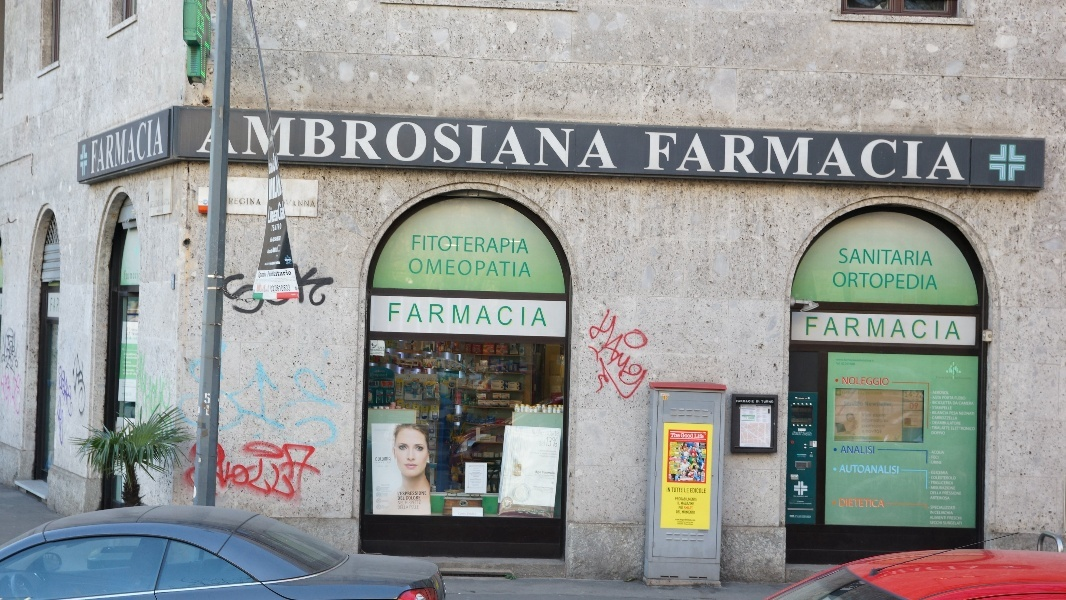text: (561, 294, 576, 417), (577, 294, 592, 417), (593, 294, 608, 417), (609, 294, 624, 417), (625, 294, 640, 417), (641, 294, 656, 417), (209, 436, 224, 509), (225, 436, 240, 509), (241, 436, 256, 509), (257, 436, 272, 509), (273, 436, 288, 509), (289, 436, 304, 509), (305, 436, 320, 509), (97, 118, 112, 175), (113, 118, 128, 175), (129, 118, 144, 175), (145, 118, 160, 175), (225, 116, 240, 170), (241, 116, 256, 170), (257, 116, 272, 170), (273, 116, 288, 170), (289, 116, 304, 170), (305, 116, 320, 170), (321, 116, 336, 170), (337, 116, 352, 170), (353, 116, 368, 170), (369, 116, 384, 170), (385, 116, 400, 170), (401, 116, 416, 170), (417, 116, 432, 170), (433, 116, 448, 170), (449, 116, 464, 170), (465, 116, 480, 170), (481, 116, 496, 170), (497, 116, 512, 170), (513, 116, 528, 170), (529, 116, 544, 170), (545, 116, 560, 170), (561, 116, 576, 170), (577, 116, 592, 170), (593, 116, 608, 170), (257, 254, 272, 308), (273, 254, 288, 308), (289, 254, 304, 308), (305, 254, 320, 308), (321, 254, 336, 308), (241, 270, 256, 321), (257, 270, 272, 321), (657, 133, 672, 183), (673, 133, 688, 183), (689, 133, 704, 183), (705, 133, 720, 183), (721, 133, 736, 183), (737, 133, 752, 183), (753, 133, 768, 183), (769, 133, 784, 183), (785, 133, 800, 183), (801, 133, 816, 183), (817, 133, 832, 183), (833, 133, 848, 183), (849, 133, 864, 183), (865, 133, 880, 183), (881, 133, 896, 183), (897, 133, 912, 183), (913, 133, 928, 183), (929, 133, 944, 183), (945, 133, 960, 183), (198, 436, 208, 509), (321, 436, 331, 509), (609, 116, 619, 170), (646, 133, 656, 183), (545, 429, 559, 459), (401, 303, 416, 328), (417, 303, 432, 328), (433, 303, 448, 328), (449, 303, 464, 328), (465, 303, 480, 328), (481, 303, 496, 328), (497, 303, 512, 328), (513, 303, 528, 328), (529, 303, 544, 328), (532, 429, 544, 459), (817, 317, 832, 340), (833, 317, 848, 340), (849, 317, 864, 340), (865, 317, 880, 340), (881, 317, 896, 340), (897, 317, 912, 340), (913, 317, 928, 340), (929, 317, 944, 340), (945, 317, 960, 340), (218, 116, 224, 170), (961, 133, 967, 183), (91, 118, 96, 175), (417, 259, 432, 278), (433, 259, 448, 278), (449, 259, 464, 278), (465, 259, 480, 278), (481, 259, 496, 278), (497, 259, 512, 278), (513, 259, 528, 278), (849, 272, 864, 291), (865, 272, 880, 291), (881, 272, 896, 291), (897, 272, 912, 291), (913, 272, 928, 291), (417, 236, 432, 254), (433, 236, 448, 254), (449, 236, 464, 254), (465, 236, 480, 254), (481, 236, 496, 254), (497, 236, 512, 254), (513, 236, 528, 254), (251, 254, 256, 308), (849, 248, 864, 266), (865, 248, 880, 266), (881, 248, 896, 266), (897, 248, 912, 266), (913, 248, 928, 266), (834, 272, 848, 291), (390, 303, 400, 328), (534, 470, 544, 495), (545, 470, 555, 495), (807, 317, 816, 340), (161, 118, 164, 175), (929, 272, 938, 291), (849, 465, 864, 475), (865, 465, 880, 475), (881, 465, 896, 475), (849, 498, 864, 508), (865, 498, 880, 508), (840, 248, 848, 266), (849, 377, 864, 386), (865, 377, 880, 386), (409, 259, 416, 278), (657, 294, 658, 417), (241, 199, 256, 207), (273, 284, 288, 292), (849, 446, 864, 454), (289, 201, 304, 207), (229, 199, 240, 207), (913, 391, 924, 399), (849, 401, 863, 407), (881, 377, 890, 386), (865, 446, 875, 454), (840, 498, 848, 508), (675, 519, 688, 525), (945, 421, 960, 426), (945, 516, 960, 521), (401, 491, 416, 496), (929, 248, 933, 266), (801, 431, 813, 437), (691, 488, 704, 493), (867, 429, 880, 434), (945, 416, 958, 421), (931, 506, 944, 511), (931, 516, 944, 521), (305, 201, 315, 207), (865, 419, 880, 423), (865, 425, 880, 429), (842, 465, 848, 475), (932, 411, 944, 416), (932, 416, 944, 421), (961, 426, 976, 430), (929, 521, 944, 525), (945, 521, 960, 525), (849, 359, 864, 363), (905, 391, 912, 399), (866, 402, 880, 406), (961, 402, 975, 406), (961, 412, 975, 416), (930, 511, 944, 515), (933, 421, 944, 426), (945, 506, 956, 511), (337, 254, 338, 308), (931, 471, 944, 475), (931, 476, 944, 480), (931, 481, 944, 485), (931, 491, 944, 495), (835, 362, 848, 366), (239, 270, 240, 321), (273, 270, 274, 321), (545, 303, 547, 328), (694, 434, 704, 439), (673, 488, 683, 493), (881, 498, 886, 508), (417, 491, 427, 496), (406, 500, 416, 505), (932, 406, 944, 410), (932, 426, 944, 430), (932, 431, 944, 435), (932, 461, 944, 465), (945, 476, 957, 480), (932, 487, 944, 491), (836, 359, 848, 363), (756, 400, 768, 404), (792, 431, 800, 437), (843, 377, 848, 386), (945, 492, 960, 495), (737, 400, 752, 403), (881, 402, 892, 406), (933, 401, 944, 405), (945, 487, 956, 491), (689, 519, 696, 525), (913, 403, 919, 410), (257, 199, 262, 207), (673, 433, 681, 438), (843, 446, 848, 454), (934, 396, 944, 400), (376, 457, 384, 462), (406, 496, 416, 500), (401, 505, 409, 510), (931, 497, 944, 500), (414, 236, 416, 254), (676, 498, 688, 501), (679, 506, 688, 510), (945, 396, 954, 400), (951, 426, 960, 430), (932, 456, 944, 459), (935, 511, 944, 515), (945, 511, 954, 515), (681, 433, 688, 438), (409, 505, 416, 510), (677, 511, 688, 514), (933, 451, 944, 454), (680, 477, 688, 481), (881, 419, 889, 423), (945, 401, 953, 405), (945, 481, 953, 485), (865, 359, 873, 363), (678, 502, 688, 505), (897, 465, 900, 475), (934, 391, 944, 394), (961, 396, 967, 401), (385, 457, 391, 462), (953, 401, 960, 405), (945, 406, 952, 410), (849, 362, 856, 366), (761, 400, 768, 404), (689, 433, 694, 438), (955, 396, 960, 401), (417, 500, 422, 505), (689, 498, 697, 501), (689, 502, 695, 506), (865, 414, 872, 417), (689, 477, 694, 481), (667, 488, 672, 492), (945, 411, 949, 416), (950, 412, 960, 414), (945, 426, 950, 430), (769, 400, 774, 404), (529, 259, 530, 278), (682, 511, 688, 514), (689, 511, 695, 514), (845, 401, 848, 407), (874, 414, 880, 417), (881, 414, 887, 417), (945, 497, 951, 500), (270, 284, 272, 292), (881, 425, 885, 429), (376, 462, 384, 464), (417, 496, 421, 500), (401, 501, 405, 505), (685, 488, 688, 493), (910, 403, 912, 410), (685, 502, 688, 506), (684, 507, 688, 510), (689, 507, 693, 510), (945, 391, 949, 394), (945, 471, 948, 475), (385, 462, 391, 464), (401, 497, 405, 500), (397, 501, 400, 505), (705, 488, 707, 493), (961, 516, 963, 521), (398, 505, 400, 510), (417, 505, 419, 510), (289, 284, 290, 292), (703, 473, 704, 481), (700, 443, 704, 445), (862, 419, 864, 423), (862, 425, 864, 429), (942, 396, 944, 400), (287, 201, 288, 207), (862, 414, 864, 417), (862, 430, 864, 433), (398, 497, 400, 500), (753, 400, 755, 403), (671, 433, 672, 438), (881, 429, 882, 434), (961, 421, 962, 426), (399, 491, 400, 496), (959, 402, 960, 406), (959, 412, 960, 416), (945, 431, 946, 435), (943, 521, 944, 525), (961, 521, 962, 525), (703, 450, 704, 453), (705, 450, 706, 453), (943, 492, 944, 495), (961, 492, 962, 495), (705, 443, 706, 445)
